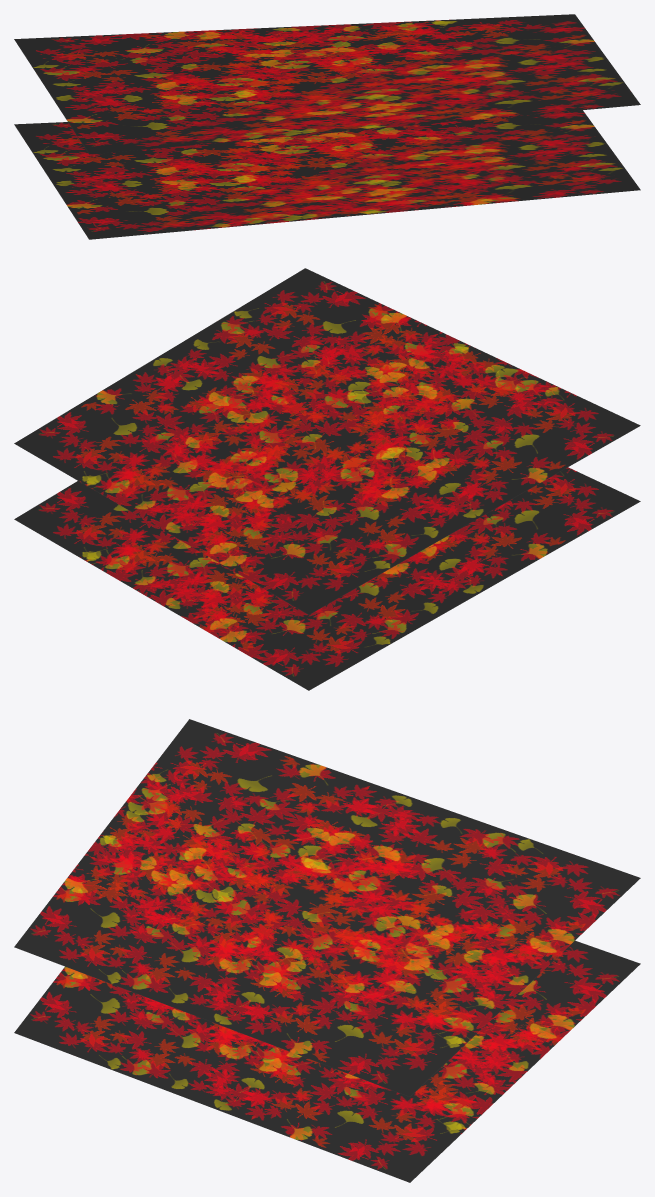
The model's file is CourseAki_CurveFloor_3_4.fbx.
3 views of the same model, one above another, from view 1: azimuth 30°, elevation 25°; view 2: azimuth 150°, elevation 25°; view 3: azimuth 270°, elevation 25° (orthographic). The views are drawn at different scales.
Visible parts, largest first — view 1: polySurface453; view 2: polySurface453; view 3: polySurface453.
Part boxes in pixels (<box>): polySurface453: <box>14,14,640,239</box>; polySurface453: <box>14,268,640,690</box>; polySurface453: <box>14,719,640,1182</box>.
Size of the model in its own units: 7.31 by 2 by 6.63.
1 material, 1 textured.
